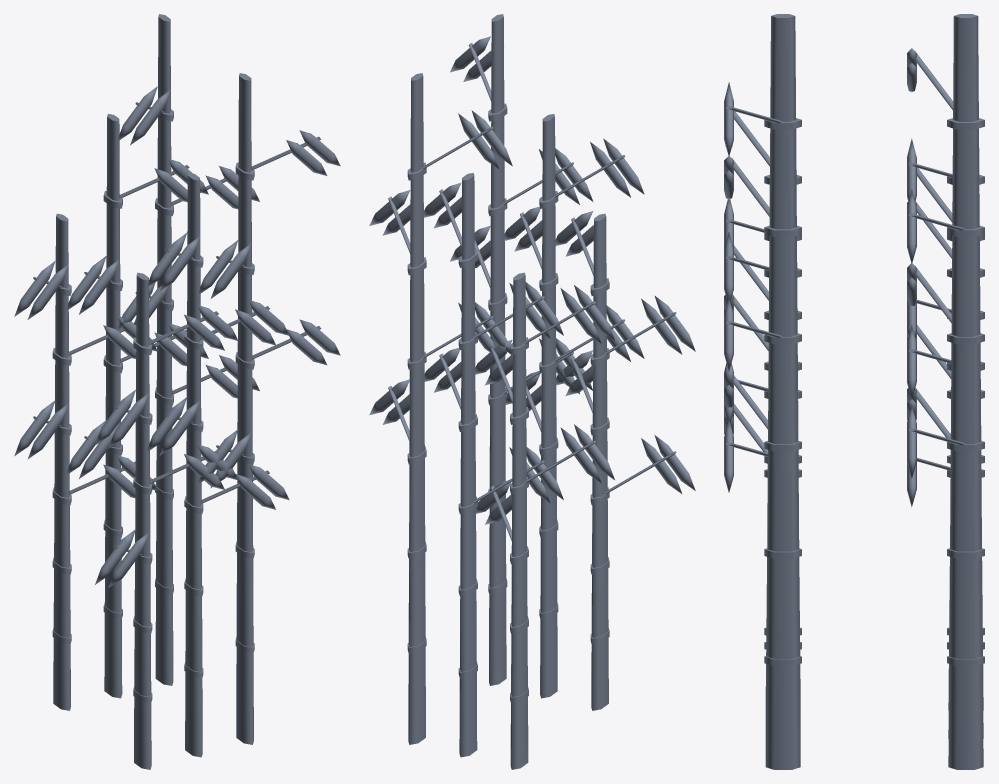
File: garden-bamboo-lite.glb
The picture shows the model from 3 angles, left to right: view 1: azimuth 30°, elevation 25°; view 2: azimuth 150°, elevation 25°; view 3: azimuth 270°, elevation 25°; orthographic projection. The views are drawn at different scales.
Visible parts, largest first — view 1: garden-bamboo; view 2: garden-bamboo; view 3: garden-bamboo.
Boxes of the visible parts, x1,y1,x2,y2 form: garden-bamboo: (14,14,340,769); garden-bamboo: (369,14,695,769); garden-bamboo: (724,14,984,769).
Size of the model in its own units: 1.05 by 2.7 by 0.85.
